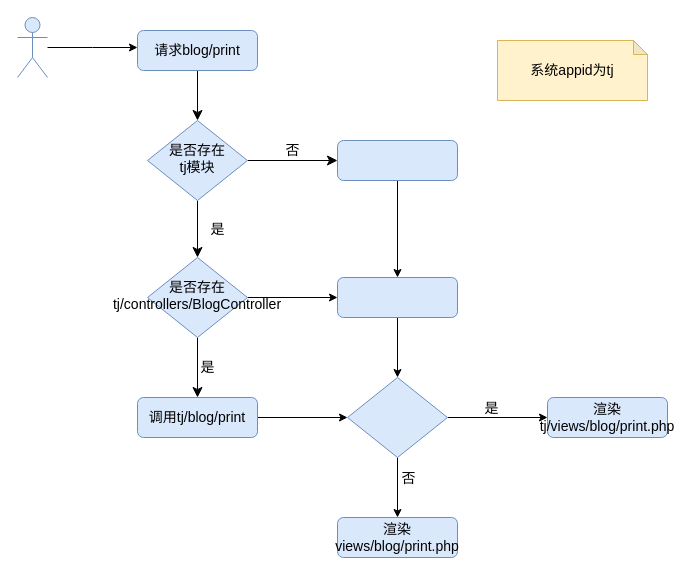
Some shapes in this 692 by 575 pixel diagram are drawn without their labels. Here are the shapes that lost their labels. From the top down, the centre of each, then its label:
At pixel 32 47: "用户".
At pixel 397 160: "执行blog/print".
At pixel 397 297: "渲染视图".
At pixel 397 417: "是否存在 tj/views/ blog/print.php".
